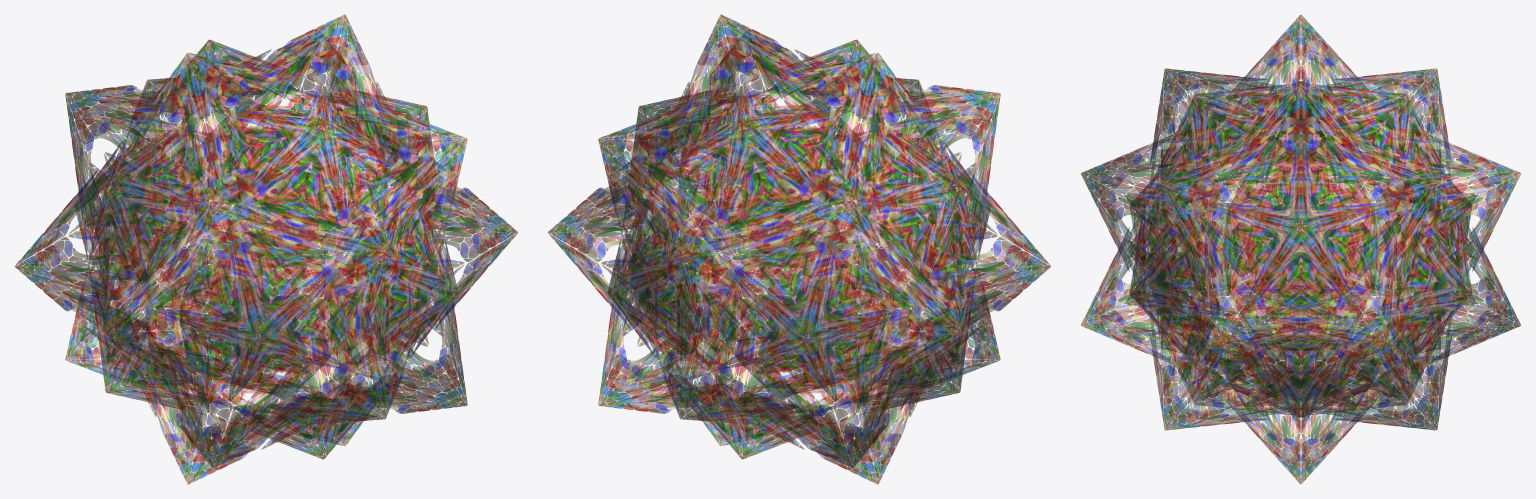
Rendered from 3MedialIcosacronicHexecontahedron.gltf.
3 renders of one model, left to right at view 1: azimuth 30°, elevation 25°; view 2: azimuth 150°, elevation 25°; view 3: azimuth 270°, elevation 25°, orthographic. The views are drawn at different scales.
Visible parts, largest first — view 1: MedialIcosacronicHexecontahedron9; view 2: MedialIcosacronicHexecontahedron9; view 3: MedialIcosacronicHexecontahedron9.
Part boxes in pixels (x1,y1,x2,y2): MedialIcosacronicHexecontahedron9: (15,14,517,484); MedialIcosacronicHexecontahedron9: (548,14,1050,484); MedialIcosacronicHexecontahedron9: (1081,15,1520,483).
Bounding box in the file's own units: 3.24 × 3.24 × 3.24.
1 material, 1 textured.
